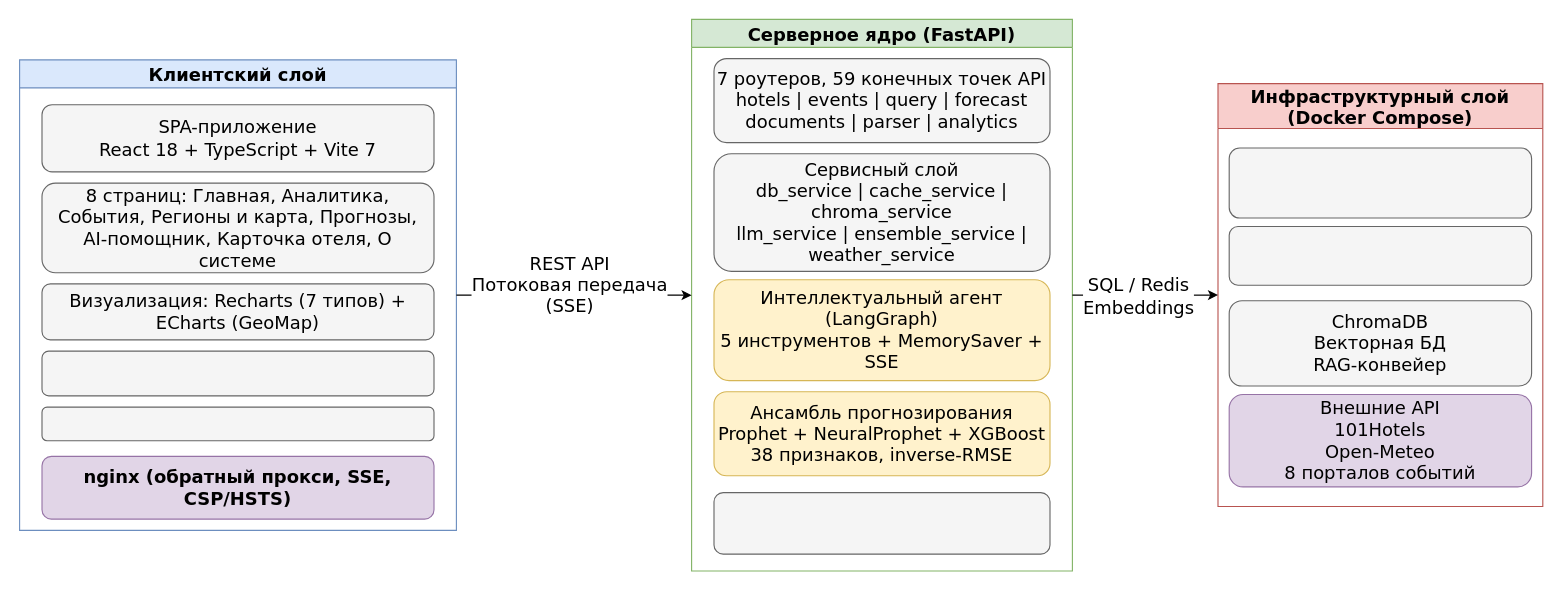
Some shapes in this 1562 by 591 pixel diagram are drawn without their labels. Each missing label, with the centre of its shape:
10 парсеров данных (BaseParser) 8 событийных + 101Hotels + Xotelo: the point at 881,522
PostgreSQL 16 5 таблиц asyncpg: the point at 1380,182
Redis 7 Кэш + Rate limiting: the point at 1380,255
TanStack React Query (кэширование): the point at 237,423
Дизайн-система: Tailwind CSS 4 6 компонентов, 28 CSS-токенов, 2 темы: the point at 237,373
